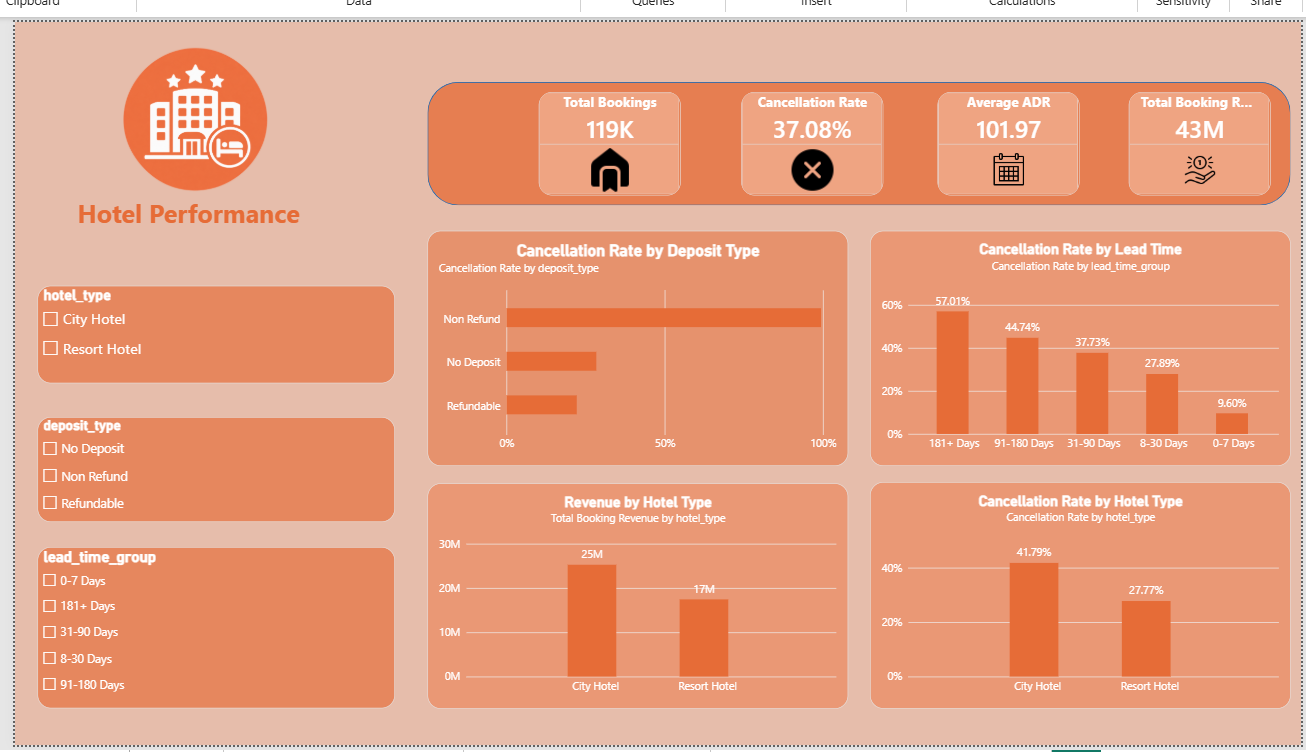

This screenshot's page, from the dashboard's own definition file:
{"tool":"powerbi","page":{"name":"Hotel Performance & Cancellation Analysis","canvas":[1920,1080],"ordinal":3},"visuals":[{"type":"shape","box":[616.6,90.2,1288.4,184.1],"z":0},{"type":"cardVisual","fields":{"Data":["Hotel_Bookings_Cleaned.Total Bookings"]},"box":[782.2,104.9,211.7,154.6],"z":1000},{"type":"cardVisual","fields":{"Data":["Hotel_Bookings_Cleaned.Cancellation Rate"]},"box":[1084.1,104.9,211.7,154.6],"z":2000},{"type":"cardVisual","fields":{"Data":["Hotel_Bookings_Cleaned.Average ADR"]},"box":[1376.7,104.9,211.7,154.6],"z":3000},{"type":"cardVisual","fields":{"Data":["Hotel_Bookings_Cleaned.Total Booking Revenue"]},"box":[1662,104.9,211.7,154.6],"z":4000},{"type":"clusteredColumnChart","title":"Revenue by Hotel Type","fields":{"Category":["Hotel_Bookings_Cleaned.hotel_type"],"Y":["Hotel_Bookings_Cleaned.Total Booking Revenue"]},"box":[616.6,688.3,627.6,336.8],"z":5000},{"type":"clusteredColumnChart","title":"Cancellation Rate by Hotel Type","fields":{"Category":["Hotel_Bookings_Cleaned.hotel_type"],"Y":["Hotel_Bookings_Cleaned.Cancellation Rate"]},"box":[1275.5,686.5,627.6,338.7],"z":5001},{"type":"clusteredBarChart","title":"Cancellation Rate by Deposit Type","fields":{"Category":["Hotel_Bookings_Cleaned.deposit_type"],"Y":["Hotel_Bookings_Cleaned.Cancellation Rate"]},"box":[616.6,311,627.6,351.5],"z":5002},{"type":"clusteredColumnChart","title":"Cancellation Rate by Lead Time","fields":{"Y":["Hotel_Bookings_Cleaned.Cancellation Rate"],"Category":["Hotel_Bookings_Cleaned.lead_time_group"]},"box":[1275.5,311,627.6,351.5],"z":5003},{"type":"slicer","fields":{"Values":["Hotel_Bookings_Cleaned.hotel_type"]},"box":[33.1,393.9,533.7,145.4],"z":5004},{"type":"slicer","fields":{"Values":["Hotel_Bookings_Cleaned.lead_time_group"]},"box":[33.1,784.1,533.7,241.1],"z":5005},{"type":"slicer","fields":{"Values":["Hotel_Bookings_Cleaned.deposit_type"]},"box":[33.6,589.6,533.7,156.7],"z":5006},{"type":"image","box":[119.4,24.3,300,235.6],"z":5007},{"type":"textbox","box":[93.3,259.4,375.1,52.2],"z":5008}]}

Visuals, with their boxes on the page's 1920x1080 design canvas (x1, y1, x2, y2). These are canvas units, not pixel positions in the 1306x752 screenshot, which may show the page scaled, cropped or inside an application window:
shape: BBox(617, 90, 1905, 274)
cardVisual - Hotel_Bookings_Cleaned.Total Bookings: BBox(782, 105, 994, 260)
cardVisual - Hotel_Bookings_Cleaned.Cancellation Rate: BBox(1084, 105, 1296, 260)
cardVisual - Hotel_Bookings_Cleaned.Average ADR: BBox(1377, 105, 1588, 260)
cardVisual - Hotel_Bookings_Cleaned.Total Booking Revenue: BBox(1662, 105, 1874, 260)
"Revenue by Hotel Type" clusteredColumnChart: BBox(617, 688, 1244, 1025)
"Cancellation Rate by Hotel Type" clusteredColumnChart: BBox(1276, 686, 1903, 1025)
"Cancellation Rate by Deposit Type" clusteredBarChart: BBox(617, 311, 1244, 662)
"Cancellation Rate by Lead Time" clusteredColumnChart: BBox(1276, 311, 1903, 662)
slicer - Hotel_Bookings_Cleaned.hotel_type: BBox(33, 394, 567, 539)
slicer - Hotel_Bookings_Cleaned.lead_time_group: BBox(33, 784, 567, 1025)
slicer - Hotel_Bookings_Cleaned.deposit_type: BBox(34, 590, 567, 746)
image: BBox(119, 24, 419, 260)
textbox: BBox(93, 259, 468, 312)
